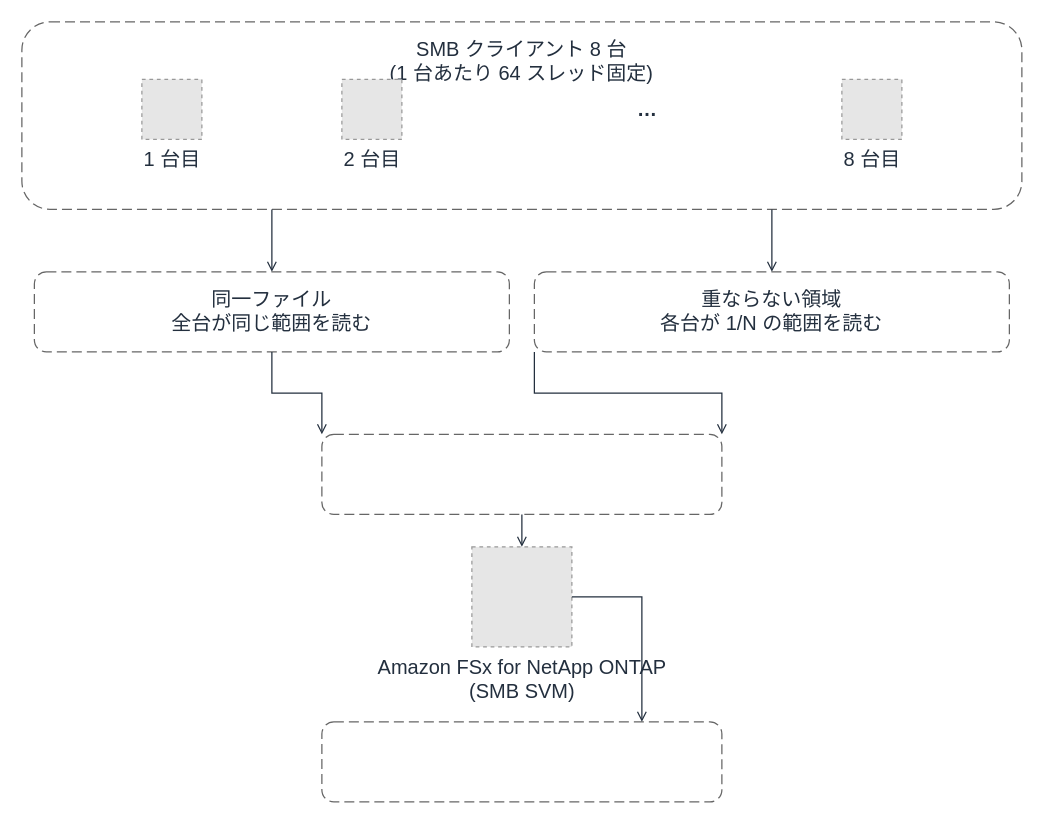
The diagram is 1044 pixels wide and 824 high, and some of its shapes have lost their labels. Grey dashed boxes stand in for pictures. The shapes that lost their labels are listed below. From the top down, each one's centre as x and y in pixels, then its label:
At point 521,473: "CIFS 共有 1 本 (SMB 3.1.1) Multichannel 4 チャネル".
At point 521,761: "1 ノードの物理ポート 1 本 (クライアント合計と突き合わせる)".
